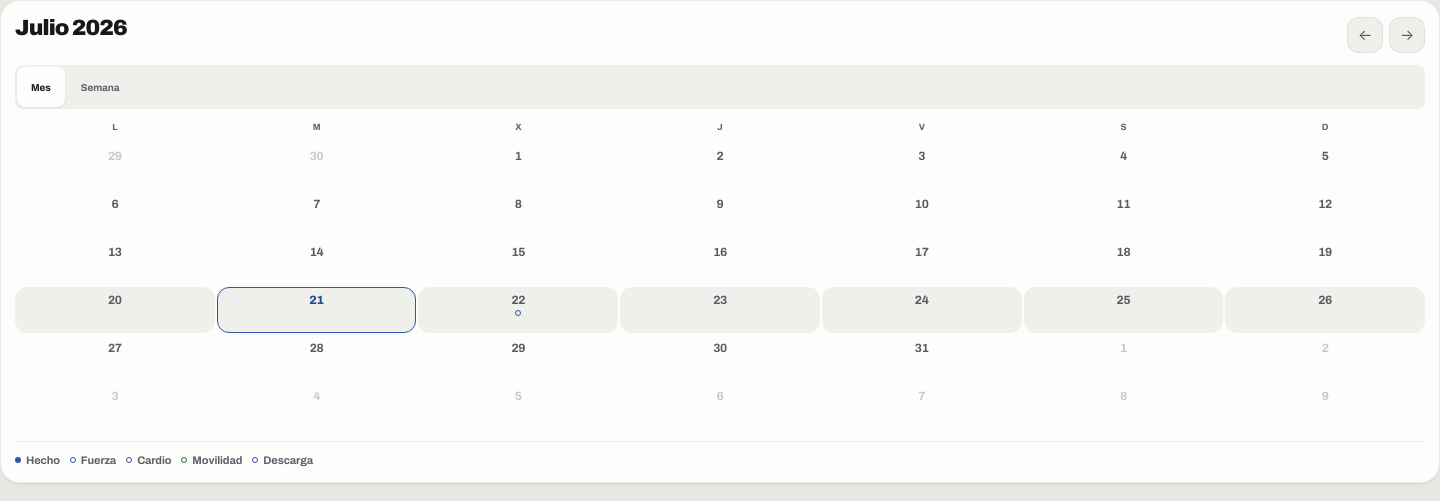
Test: Calendar — vista semana › anuncia la semana de descarga
Step 1. Click the tab "Semana" → (100, 87), box [67,67,133,107]
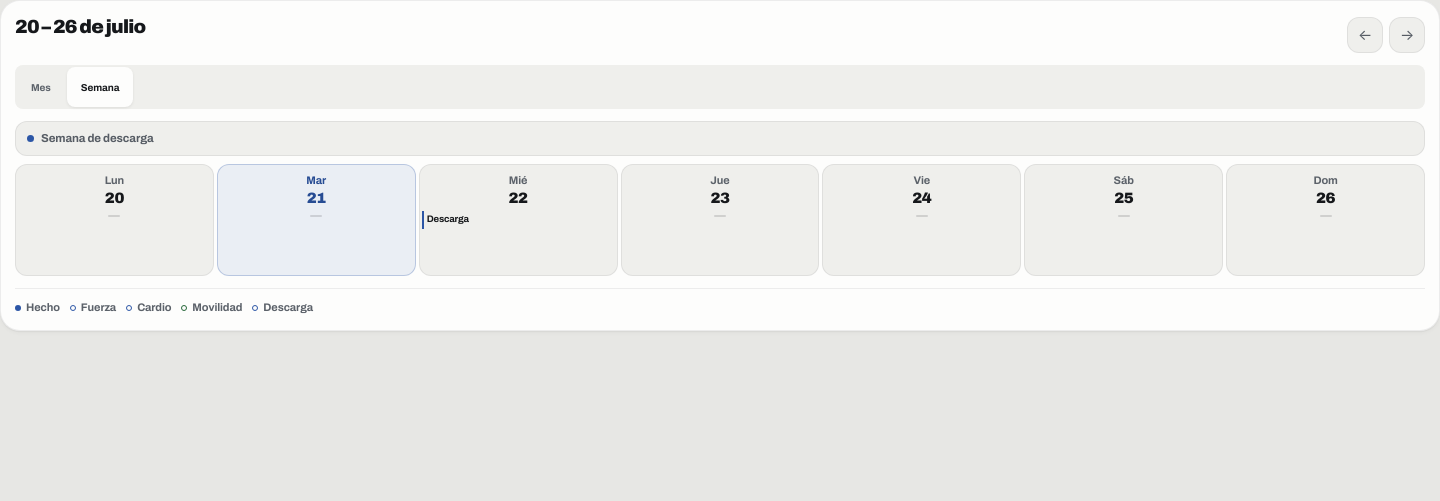
Now the text "Semana de descarga" is shown, box [41,130,154,147]
